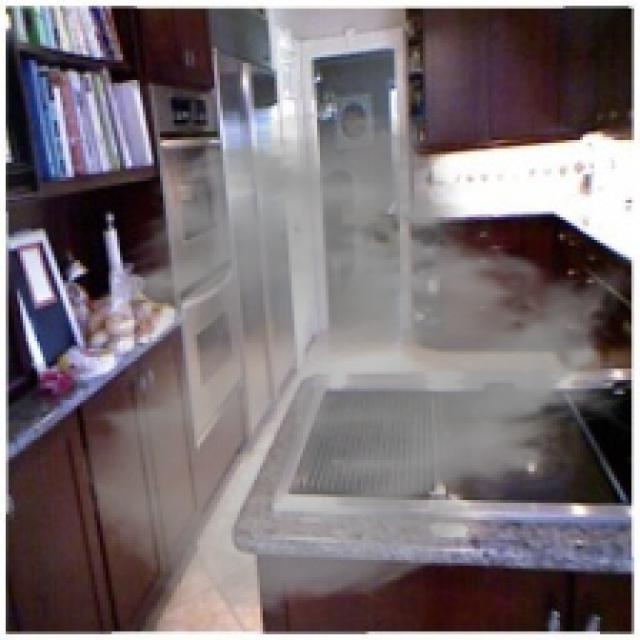Smoke: (77, 106, 637, 623)
